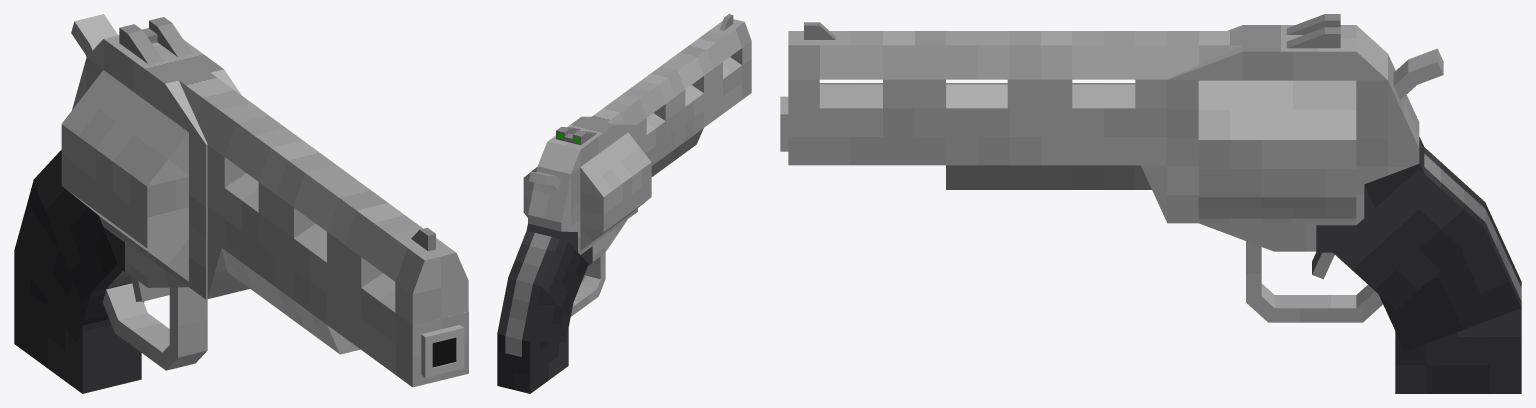
Rendered from revolver.gltf.
3 renders of one model, left to right at view 1: azimuth 30°, elevation 25°; view 2: azimuth 150°, elevation 25°; view 3: azimuth 270°, elevation 25°, orthographic. The views are drawn at different scales.
Parts seen in each view (by area): view 1: top rail (×4), barrel_main, octo_2, handle_1, Drum test horizontal, handle_3, handle_2, top (×3), bulk, trigger_gaurd_3, rail 1, trigger_guard_2 (+16 smaller); view 2: top rail (×4), barrel_main, handle_1, handle_3, Drum test horizontal, octo_2, handle_2, slant_2, top, handle_5, slant_5, bulk (+14 smaller); view 3: top rail (×4), barrel_main, handle_3, octo_3, bulk, Drum test horizontal, handle_2, handle_1, top, octo_2, trigger_guard_2, rail 3 (+15 smaller).
Boxes of the visible parts, x1,y1,x2,y2 form: top rail (×4): (169, 65, 456, 354); barrel_main: (207, 176, 468, 387); octo_2: (62, 70, 188, 186); handle_1: (14, 252, 141, 393); Drum test horizontal: (61, 124, 188, 248); handle_3: (33, 150, 122, 302); handle_2: (14, 181, 144, 344); top (×3): (103, 23, 223, 114); bulk: (86, 57, 207, 299); trigger_gaurd_3: (169, 287, 207, 357); rail 1: (395, 281, 468, 325); trigger_guard_2: (114, 313, 169, 370); top rail (×4): (584, 19, 751, 176); barrel_main: (638, 58, 751, 165); handle_1: (497, 328, 568, 393); handle_3: (508, 231, 588, 315); Drum test horizontal: (523, 163, 651, 232); octo_2: (524, 132, 651, 217); handle_2: (497, 278, 573, 342); slant_2: (528, 166, 570, 222); top: (548, 116, 614, 166); handle_5: (505, 280, 532, 339); slant_5: (538, 141, 580, 173); bulk: (571, 125, 637, 253); top rail (×4): (788, 31, 1261, 189); barrel_main: (788, 108, 1166, 165); handle_3: (1329, 147, 1485, 309); octo_3: (1198, 80, 1356, 139); bulk: (1167, 80, 1387, 223); Drum test horizontal: (1198, 140, 1356, 197); handle_2: (1378, 203, 1521, 351); handle_1: (1395, 308, 1521, 393); top: (1242, 25, 1356, 80); octo_2: (1198, 197, 1356, 218); trigger_guard_2: (1268, 295, 1362, 322); rail 3: (1007, 79, 1072, 108).
Size of the model in its own units: 0.1514 by 0.3897 by 0.7339.
4 materials, 4 textured.
